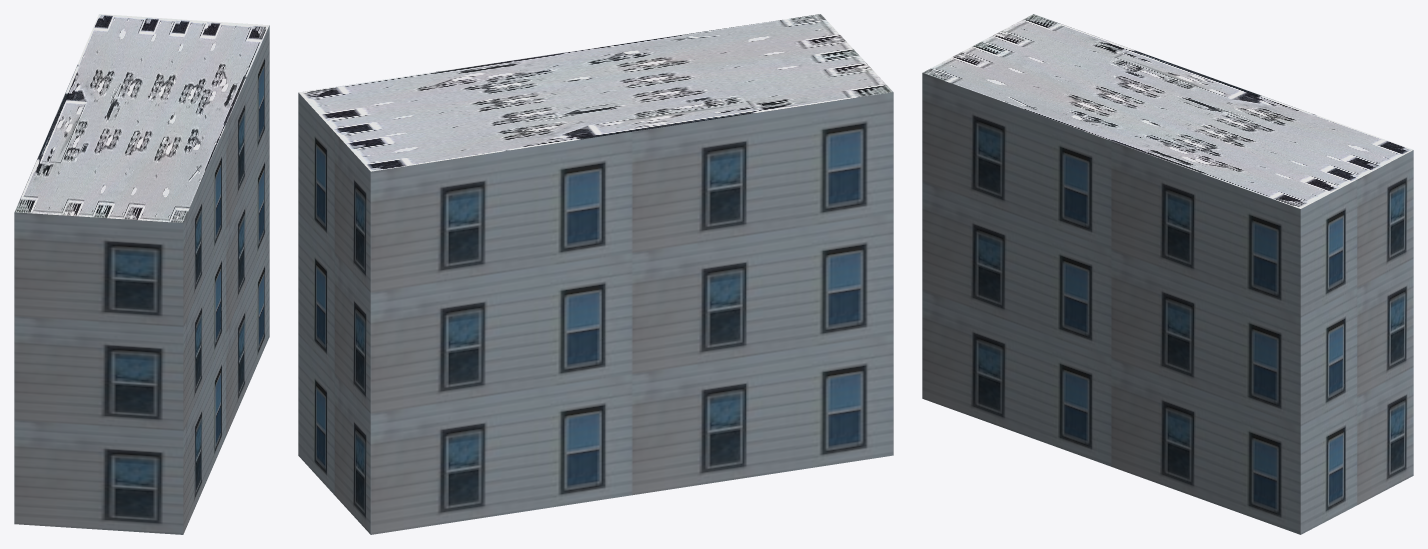
The model's file is ResTex__2954.fbx.
3 views of the same model, side by side, from view 1: azimuth 30°, elevation 25°; view 2: azimuth 150°, elevation 25°; view 3: azimuth 270°, elevation 25° (orthographic). The views are drawn at different scales.
Visible parts, largest first — view 1: CityEngineMaterial_18_m, CityEngineMaterial_8_m; view 2: CityEngineMaterial_18_m, CityEngineMaterial_8_m; view 3: CityEngineMaterial_18_m, CityEngineMaterial_8_m.
Part boxes in pixels (<box>): CityEngineMaterial_18_m: <box>14,25,269,534</box>; CityEngineMaterial_8_m: <box>14,14,269,222</box>; CityEngineMaterial_18_m: <box>298,92,893,534</box>; CityEngineMaterial_8_m: <box>298,14,893,171</box>; CityEngineMaterial_18_m: <box>922,73,1413,534</box>; CityEngineMaterial_8_m: <box>922,14,1412,208</box>.
Bounding box in the file's own units: 11.57 × 9 × 12.31.
Materials: 2 (2 with a texture image).
